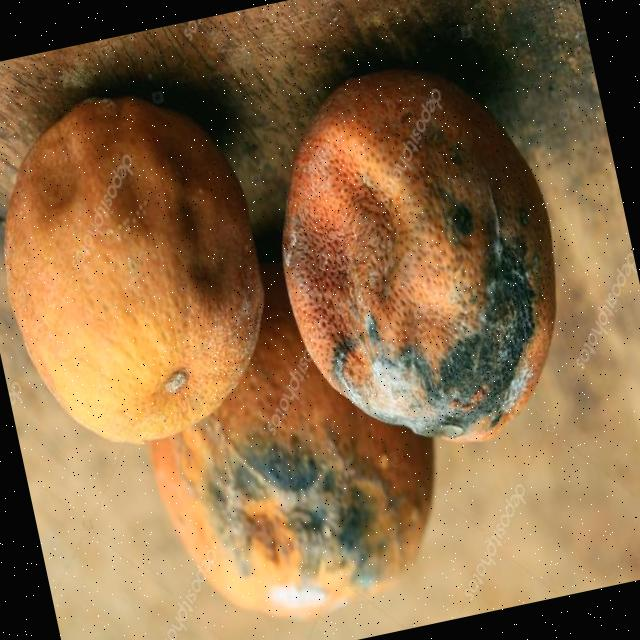Rotten: (243, 39, 594, 478)
overripe: (0, 68, 295, 465)
